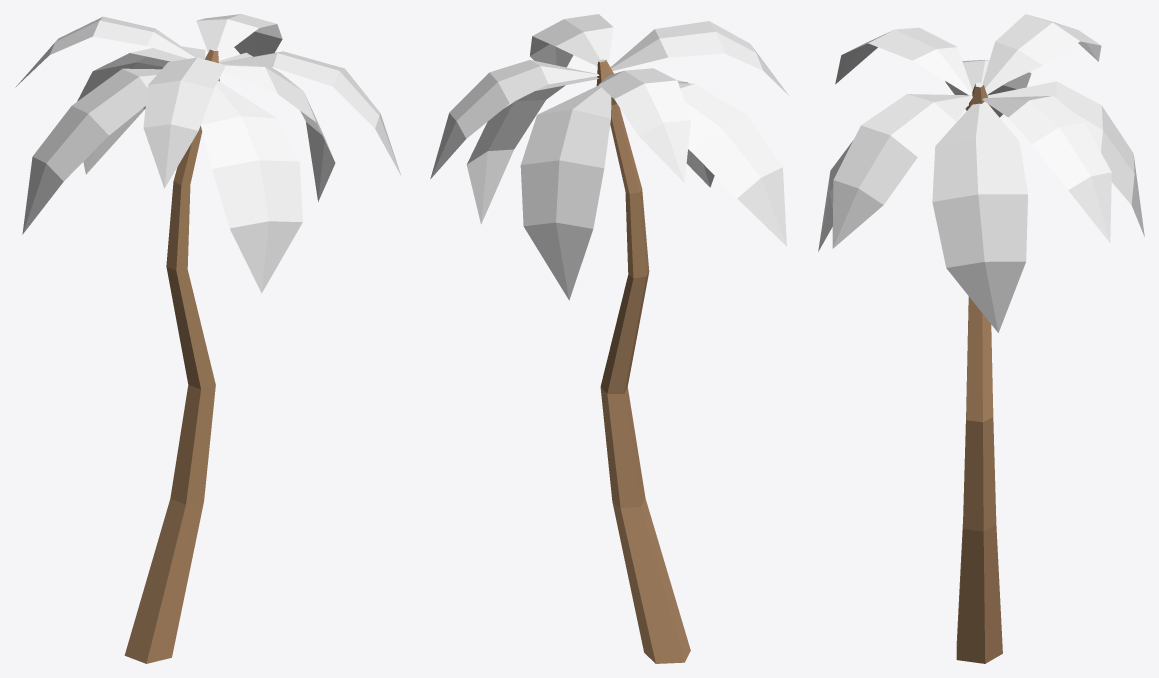
File: Palm_Tree_OneSided_m_Snow_04_LOD.fbx
3 views of the same model, side by side, from view 1: azimuth 30°, elevation 25°; view 2: azimuth 150°, elevation 25°; view 3: azimuth 270°, elevation 25° (orthographic). The views are drawn at different scales.
Parts seen in each view (by area): view 1: Palm_Tree_OneSided_m_Snow_04_LOD0; view 2: Palm_Tree_OneSided_m_Snow_04_LOD0; view 3: Palm_Tree_OneSided_m_Snow_04_LOD0.
Boxes of the visible parts, x1,y1,x2,y2 form: Palm_Tree_OneSided_m_Snow_04_LOD0: [15, 14, 401, 663]; Palm_Tree_OneSided_m_Snow_04_LOD0: [430, 14, 788, 663]; Palm_Tree_OneSided_m_Snow_04_LOD0: [818, 14, 1144, 663].
Size of what is drawn, in the model's own units: 319 by 600 by 284.
